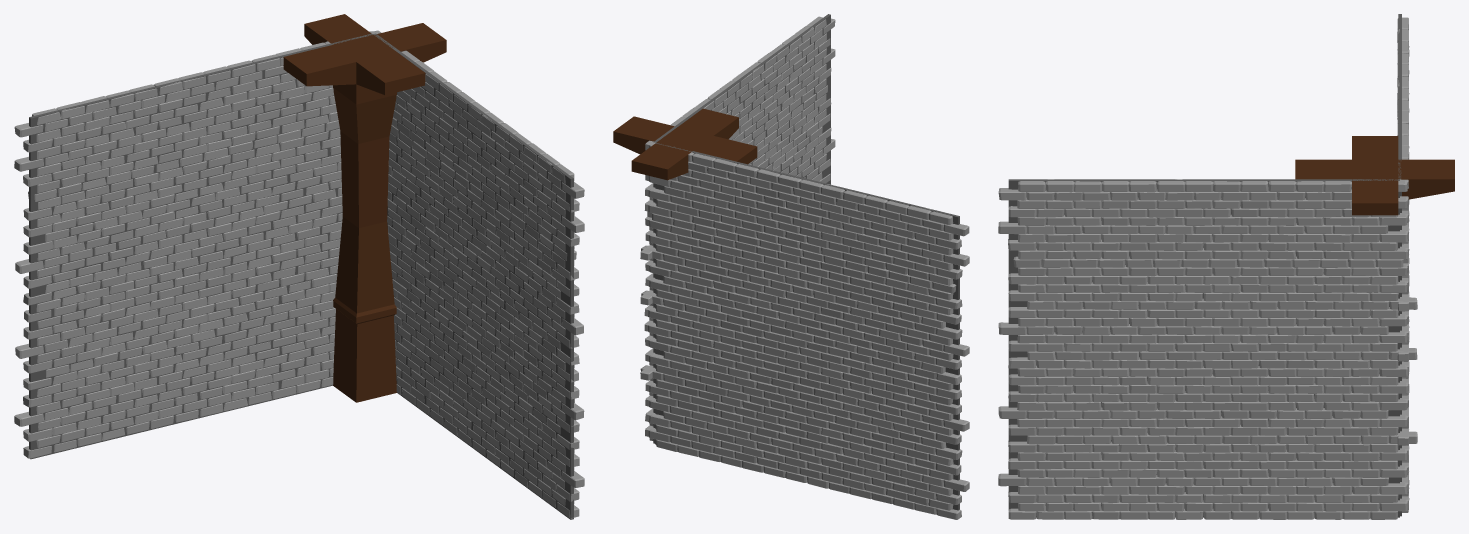
Rendered from WallCorner.fbx.
3 views of the same model, side by side, from view 1: azimuth 30°, elevation 25°; view 2: azimuth 150°, elevation 25°; view 3: azimuth 270°, elevation 25° (orthographic). The views are drawn at different scales.
Visible parts, largest first — view 1: Cube.1246, Cube.1245, Cube.1243, Cube.1247, Cube.1244; view 2: Cube.1246, Cube.1245, Cube.1243, Cube.1244, Cube.1247; view 3: Cube.1245, Cube.1243, Cube.1244, Cube.1246, Cube.1247.
Boxes of the visible parts, x1,y1,x2,y2 form: Cube.1246: [14, 31, 372, 458]; Cube.1245: [370, 30, 584, 518]; Cube.1243: [283, 14, 446, 402]; Cube.1247: [29, 33, 372, 459]; Cube.1244: [373, 33, 573, 519]; Cube.1246: [640, 143, 969, 519]; Cube.1245: [640, 16, 835, 440]; Cube.1243: [613, 108, 757, 180]; Cube.1244: [653, 14, 830, 443]; Cube.1247: [655, 143, 959, 510]; Cube.1245: [998, 179, 1417, 519]; Cube.1243: [1295, 136, 1454, 215]; Cube.1244: [1008, 179, 1399, 517]; Cube.1246: [1397, 17, 1409, 512]; Cube.1247: [1398, 14, 1401, 516].
Size of the model in its own units: 994 by 802 by 985.
